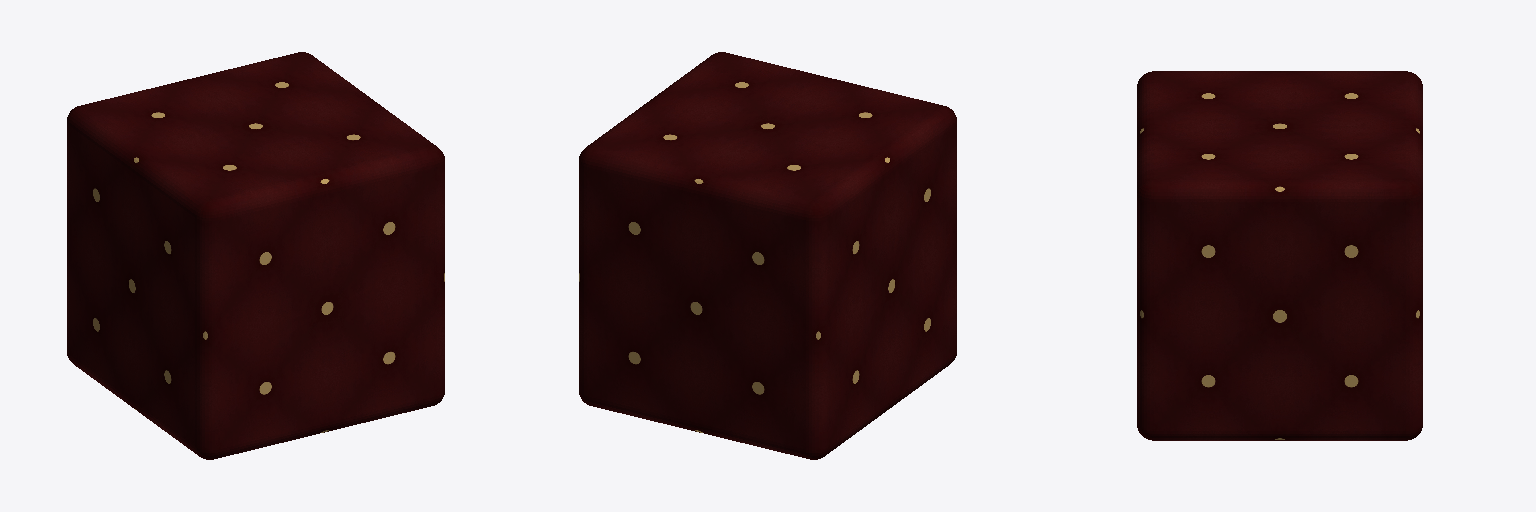
The picture shows the model from 3 angles: view 1: azimuth 30°, elevation 25°; view 2: azimuth 150°, elevation 25°; view 3: azimuth 270°, elevation 25°; orthographic projection.
Visible parts, largest first — view 1: ChamferBox001; view 2: ChamferBox001; view 3: ChamferBox001.
Part boxes in pixels (x1,y1,x2,y2): ChamferBox001: (67,52,444,459); ChamferBox001: (579,52,956,459); ChamferBox001: (1137,71,1422,440).
Size of the model in its own units: 2.3 by 2.3 by 2.3.
Materials: 1 (1 with a texture image).